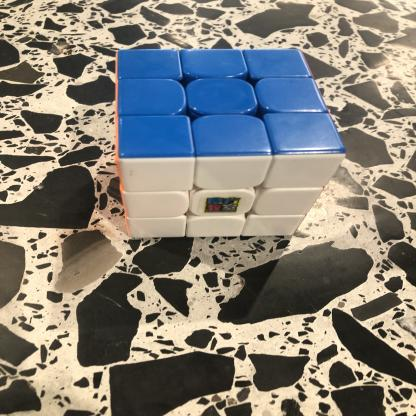SolvedCube: (103, 32, 346, 259)
